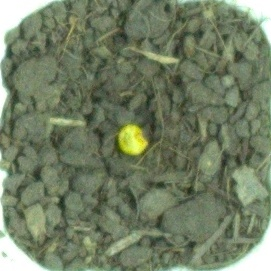pepper seed: (38, 45, 190, 202)
